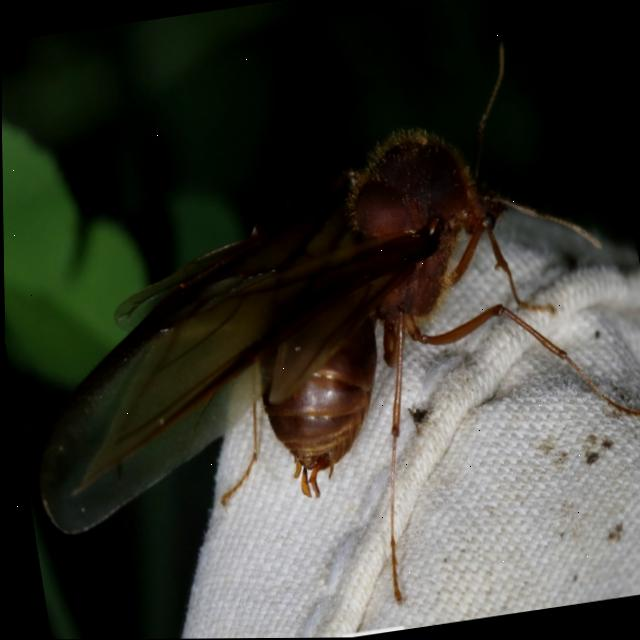Alive-Male-Alate: (0, 28, 640, 640)
